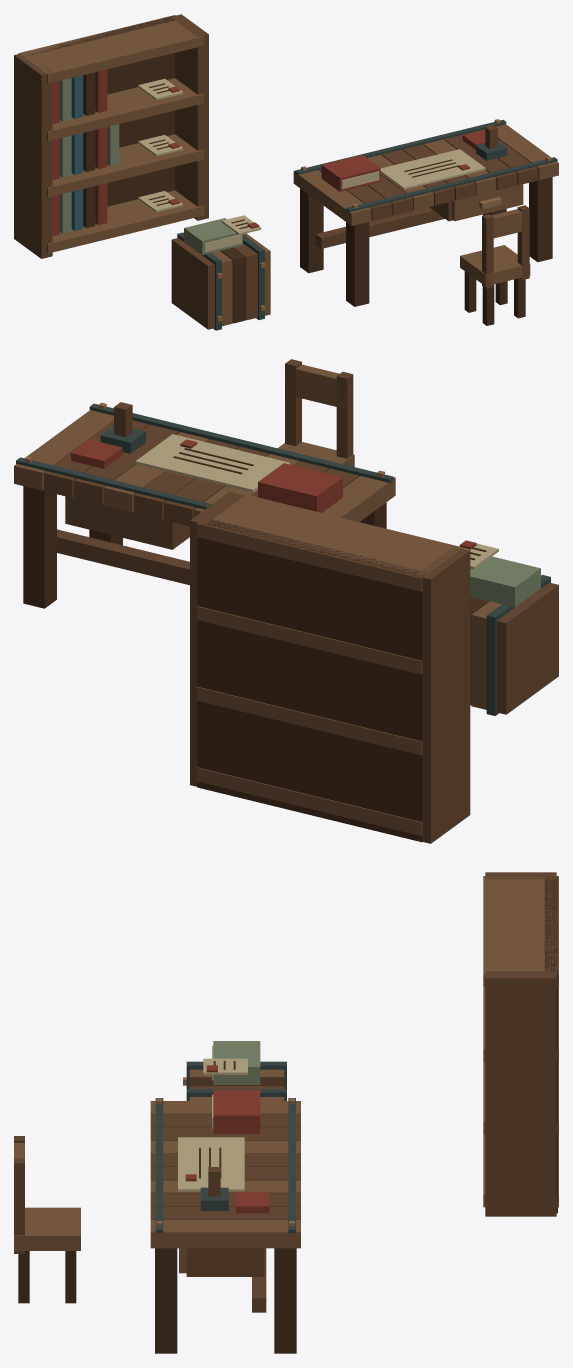
File: B30_clock_in.glb
The picture shows the model from 3 angles, top to bottom: view 1: azimuth 30°, elevation 25°; view 2: azimuth 150°, elevation 25°; view 3: azimuth 270°, elevation 25°; orthographic projection. The views are drawn at different scales.
Parts seen in each view (by area): view 1: B30_clock_in__forms_ShelfBoard_woodlight, B30_clock_in__forms_ShelfUpright_wood, B30_clock_in__main_station_TableLegs_wooddark, B30_clock_in__forms_ShelfBack_wooddark, B30_clock_in__main_station_TableTop_wood, B30_clock_in__main_station_TableTop_woodlight, B30_clock_in__archive_box_CratePlanks_wood, B30_clock_in__forms_BookCover_red, B30_clock_in__main_station_Paper_paper, B30_clock_in__main_station_TableBands_iron, B30_clock_in__forms_BookCover_cloth, B30_clock_in__seat_SeatLegs_wooddark (+15 smaller); view 2: B30_clock_in__forms_ShelfBack_wooddark, B30_clock_in__forms_ShelfBoard_woodlight, B30_clock_in__forms_ShelfUpright_wood, B30_clock_in__main_station_TableTop_woodlight, B30_clock_in__main_station_TableTop_wood, B30_clock_in__archive_box_CratePlanks_wood, B30_clock_in__main_station_TableLegs_wooddark, B30_clock_in__main_station_Paper_paper, B30_clock_in__main_station_TableBands_iron, B30_clock_in__main_station_Drawer_wood, B30_clock_in__main_station_TableRail_wood, B30_clock_in__main_station_BookCover_red (+9 smaller); view 3: B30_clock_in__forms_ShelfUpright_wood, B30_clock_in__forms_ShelfBoard_woodlight, B30_clock_in__main_station_TableTop_woodlight, B30_clock_in__main_station_TableTop_wood, B30_clock_in__main_station_TableLegs_wooddark, B30_clock_in__main_station_Paper_paper, B30_clock_in__seat_Seat_woodlight, B30_clock_in__main_station_Drawer_wood, B30_clock_in__main_station_TableBands_iron, B30_clock_in__main_station_BookCover_red, B30_clock_in__forms_ShelfBack_wooddark, B30_clock_in__archive_box_BookCover_cloth (+7 smaller).
Part boxes in pixels (left/top/right/bottom): B30_clock_in__forms_ShelfBoard_woodlight: left=18, top=15, right=204, bottom=253; B30_clock_in__forms_ShelfUpright_wood: left=14, top=14, right=208, bottom=258; B30_clock_in__main_station_TableLegs_wooddark: left=300, top=177, right=552, bottom=306; B30_clock_in__forms_ShelfBack_wooddark: left=19, top=15, right=179, bottom=206; B30_clock_in__main_station_TableTop_wood: left=319, top=129, right=537, bottom=220; B30_clock_in__main_station_TableTop_woodlight: left=293, top=124, right=558, bottom=225; B30_clock_in__archive_box_CratePlanks_wood: left=171, top=238, right=257, bottom=329; B30_clock_in__forms_BookCover_red: left=52, top=69, right=107, bottom=236; B30_clock_in__main_station_Paper_paper: left=380, top=149, right=485, bottom=189; B30_clock_in__main_station_TableBands_iron: left=295, top=119, right=557, bottom=212; B30_clock_in__forms_BookCover_cloth: left=59, top=78, right=119, bottom=233; B30_clock_in__seat_SeatLegs_wooddark: left=464, top=271, right=525, bottom=325; B30_clock_in__forms_ShelfBack_wooddark: left=197, top=518, right=425, bottom=842; B30_clock_in__forms_ShelfBoard_woodlight: left=196, top=493, right=463, bottom=835; B30_clock_in__forms_ShelfUpright_wood: left=190, top=491, right=470, bottom=843; B30_clock_in__main_station_TableTop_woodlight: left=14, top=410, right=395, bottom=521; B30_clock_in__main_station_TableTop_wood: left=44, top=420, right=358, bottom=526; B30_clock_in__archive_box_CratePlanks_wood: left=470, top=582, right=558, bottom=714; B30_clock_in__main_station_TableLegs_wooddark: left=23, top=486, right=386, bottom=608; B30_clock_in__main_station_Paper_paper: left=135, top=434, right=290, bottom=492; B30_clock_in__main_station_TableBands_iron: left=16, top=403, right=393, bottom=509; B30_clock_in__main_station_Drawer_wood: left=65, top=496, right=189, bottom=549; B30_clock_in__main_station_TableRail_wood: left=57, top=529, right=189, bottom=585; B30_clock_in__main_station_BookCover_red: left=258, top=463, right=342, bottom=512; B30_clock_in__forms_ShelfUpright_wood: left=485, top=872, right=556, bottom=1216; B30_clock_in__forms_ShelfBoard_woodlight: left=483, top=876, right=558, bottom=1207; B30_clock_in__main_station_TableTop_woodlight: left=150, top=1101, right=300, bottom=1248; B30_clock_in__main_station_TableTop_wood: left=150, top=1114, right=300, bottom=1219; B30_clock_in__main_station_TableLegs_wooddark: left=155, top=1248, right=296, bottom=1353; B30_clock_in__main_station_Paper_paper: left=178, top=1137, right=244, bottom=1191; B30_clock_in__seat_Seat_woodlight: left=14, top=1207, right=80, bottom=1250; B30_clock_in__main_station_Drawer_wood: left=186, top=1248, right=264, bottom=1276; B30_clock_in__main_station_TableBands_iron: left=155, top=1098, right=295, bottom=1233; B30_clock_in__main_station_BookCover_red: left=213, top=1089, right=260, bottom=1133; B30_clock_in__forms_ShelfBack_wooddark: left=544, top=876, right=557, bottom=1213; B30_clock_in__archive_box_BookCover_cloth: left=213, top=1041, right=260, bottom=1084.
Bounding box in the file's own units: 5.23 × 2.38 × 4.89.
